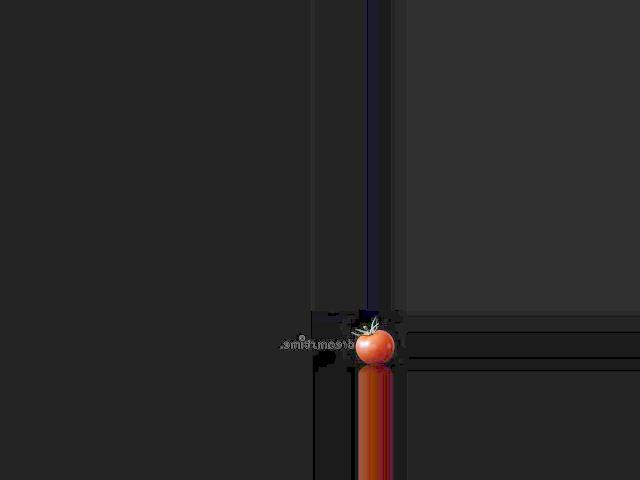tomato: (355, 330, 393, 363)
